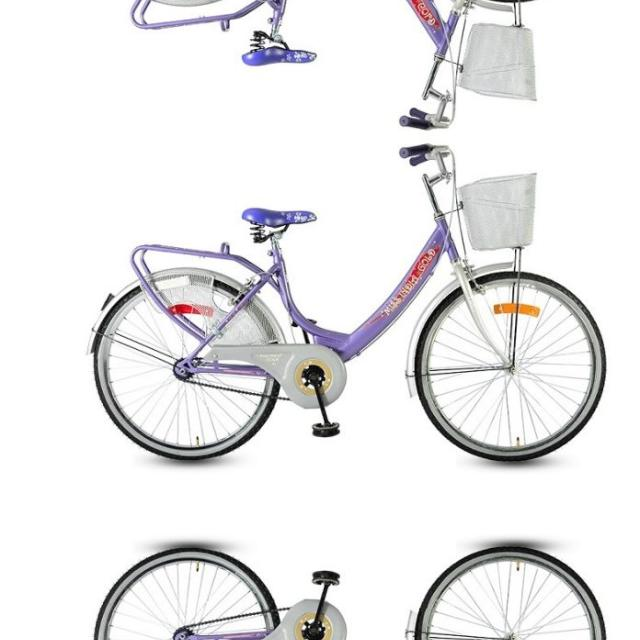obstacle: (42, 136, 640, 504), (42, 0, 640, 136), (42, 504, 640, 640)
